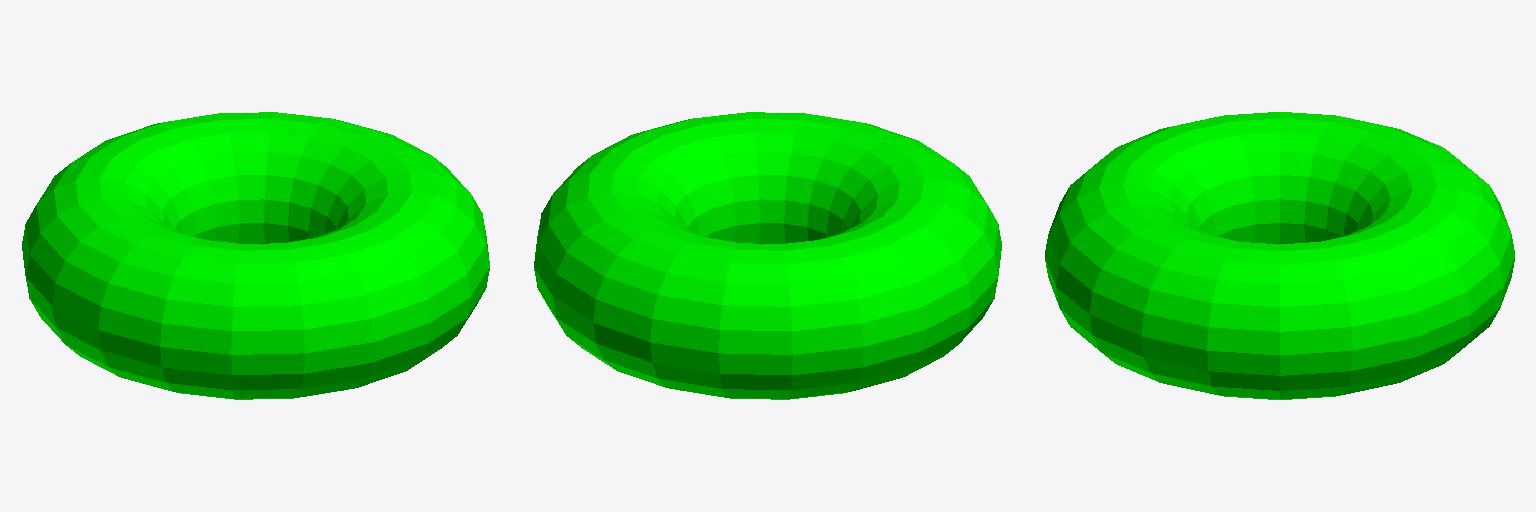
The model's file is donutCube.obj.
3 renders of one model, left to right at view 1: azimuth 30°, elevation 25°; view 2: azimuth 150°, elevation 25°; view 3: azimuth 270°, elevation 25°, orthographic.
Parts seen in each view (by area): view 1: pTorus1; view 2: pTorus1; view 3: pTorus1.
Boxes of the visible parts, x1=… form: pTorus1: x1=22, y1=112, x2=489, y2=399; pTorus1: x1=534, y1=112, x2=1001, y2=399; pTorus1: x1=1045, y1=112, x2=1514, y2=399.
Bounding box in the file's own units: 3 × 1 × 3.